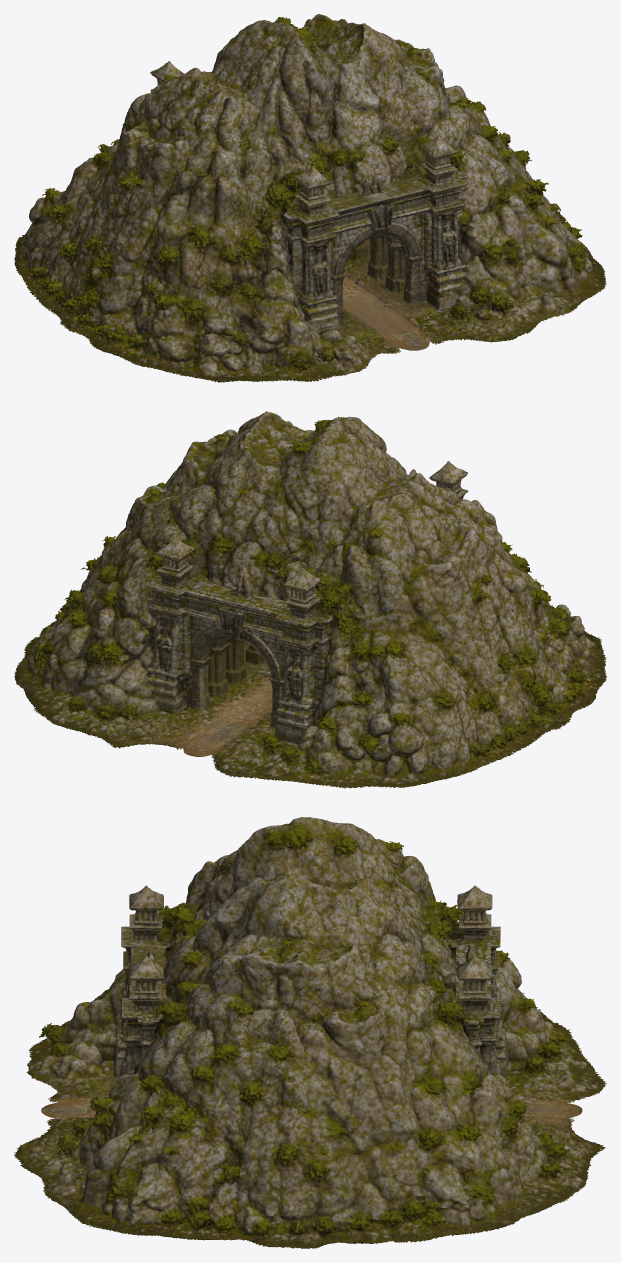
Rendered from mtn_gate.glb.
3 views of the same model, one above another, from view 1: azimuth 30°, elevation 25°; view 2: azimuth 150°, elevation 25°; view 3: azimuth 270°, elevation 25° (orthographic). The views are drawn at different scales.
Parts seen in each view (by area): view 1: mtn_gate; view 2: mtn_gate; view 3: mtn_gate.
Boxes of the visible parts, left/top/right/bottom form: mtn_gate: left=14, top=14, right=606, bottom=382; mtn_gate: left=14, top=411, right=606, bottom=788; mtn_gate: left=14, top=817, right=606, bottom=1248.
Bounding box in the file's own units: 189 × 91.54 × 173.
Materials: 1 (1 with a texture image).
